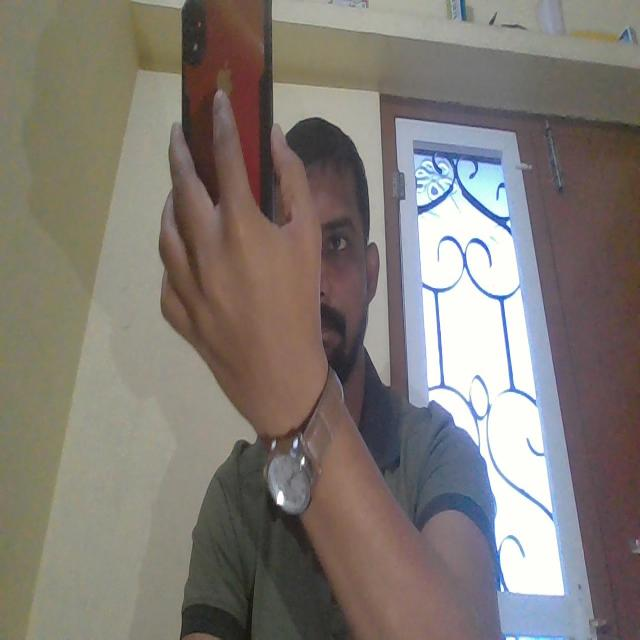phone: (179, 0, 273, 146)
